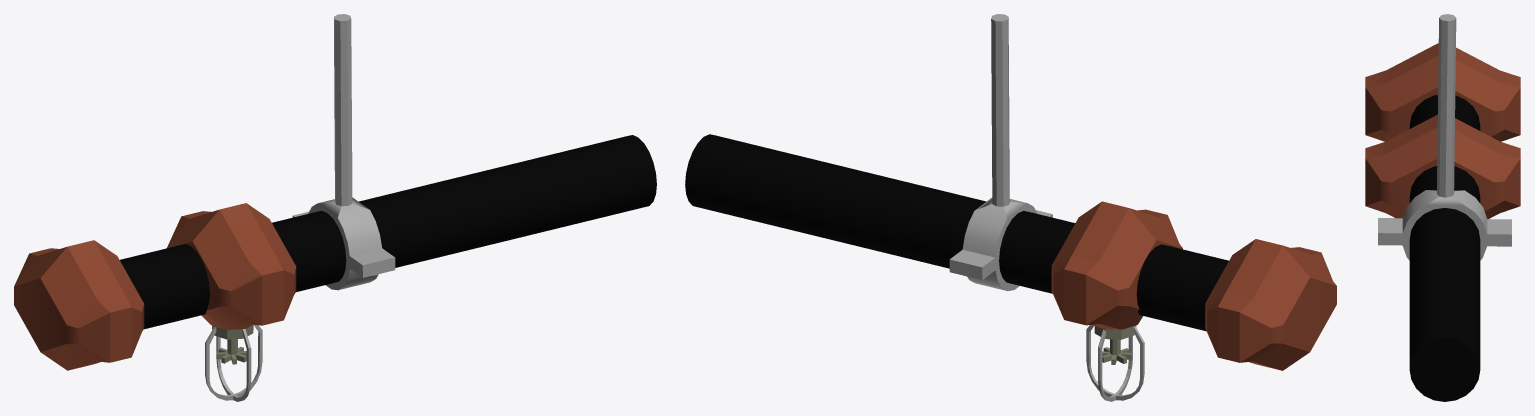
The model's file is pipefireLove.fbx.
3 renders of one model, left to right at view 1: azimuth 30°, elevation 25°; view 2: azimuth 150°, elevation 25°; view 3: azimuth 270°, elevation 25°, orthographic. The views are drawn at different scales.
Visible parts, largest first — view 1: pCylinder1, pCylinder3, pCylinder4, pCylinder2, pCylinder5, pCylinder6; view 2: pCylinder1, pCylinder3, pCylinder4, pCylinder2, pCylinder5, pCylinder6; view 3: pCylinder1, pCylinder4, pCylinder3, pCylinder2.
Boxes of the visible parts, x1,y1,x2,y2 form: pCylinder1: (120, 135, 656, 329); pCylinder3: (14, 240, 144, 370); pCylinder4: (167, 203, 296, 364); pCylinder2: (292, 14, 395, 290); pCylinder5: (205, 325, 262, 400); pCylinder6: (216, 329, 251, 401); pCylinder1: (685, 134, 1228, 330); pCylinder3: (1205, 239, 1336, 370); pCylinder4: (1051, 201, 1182, 364); pCylinder2: (949, 14, 1052, 291); pCylinder5: (1086, 324, 1144, 400); pCylinder6: (1098, 329, 1132, 401); pCylinder1: (1409, 95, 1480, 401); pCylinder4: (1365, 114, 1520, 218); pCylinder3: (1365, 43, 1520, 141); pCylinder2: (1378, 14, 1511, 260).
Bounding box in the file's own units: 18.72 × 10.53 × 4.38.
